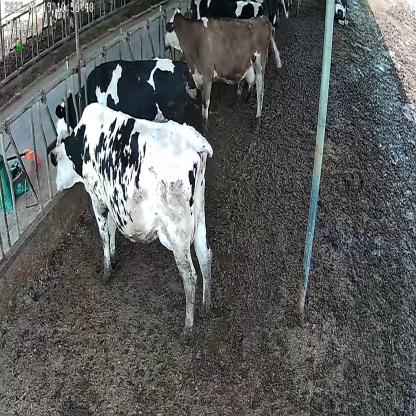cow: (47, 103, 215, 345), (164, 6, 284, 122), (52, 57, 206, 144)
